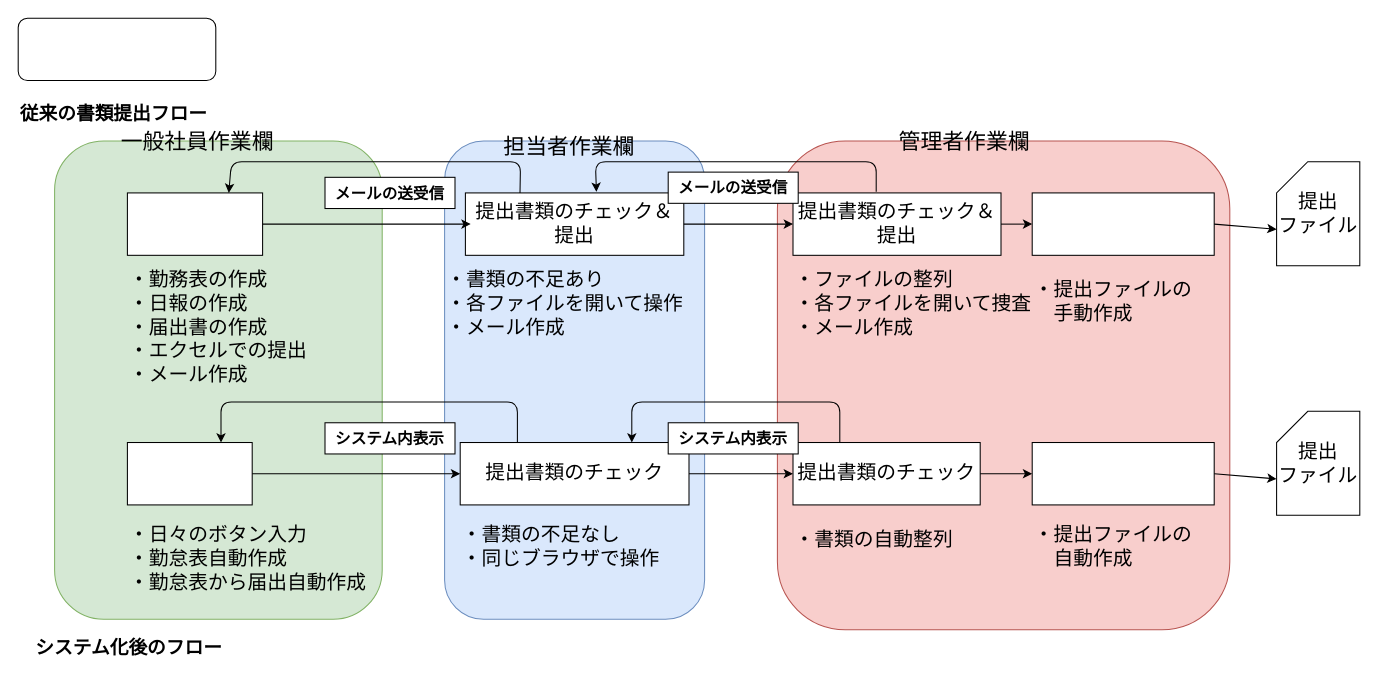
The diagram is 1378 pixels wide and 679 high, and some of its shapes have lost their labels. The shapes that lost their labels are listed below. From the top down, each one's box as (x1, y1, x2, y2) in pixels, then its label:
(17, 17, 216, 81): 勤務表、書類の提出
(126, 192, 263, 255): 提出書類の作成
(1031, 192, 1214, 255): 経理システム 提出ファイルの作成
(126, 441, 252, 505): 出退勤ボタン
(1031, 441, 1214, 505): 経理システム 提出書類自動作成
